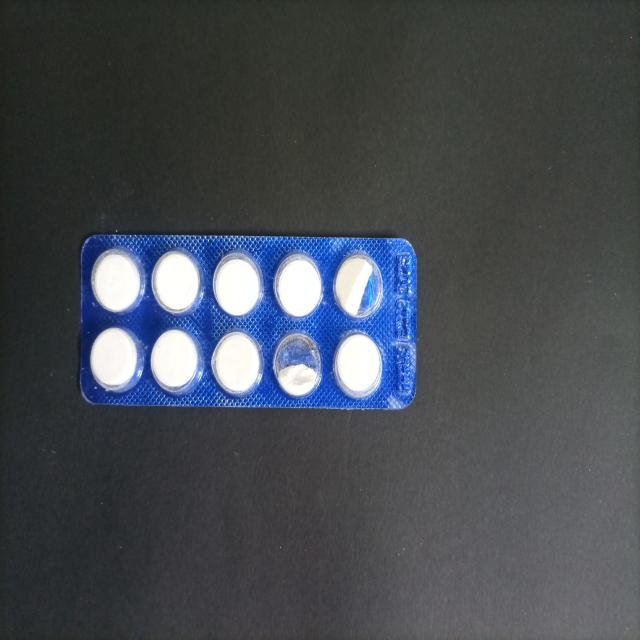defect: (269, 327, 324, 402), (331, 250, 385, 321)
